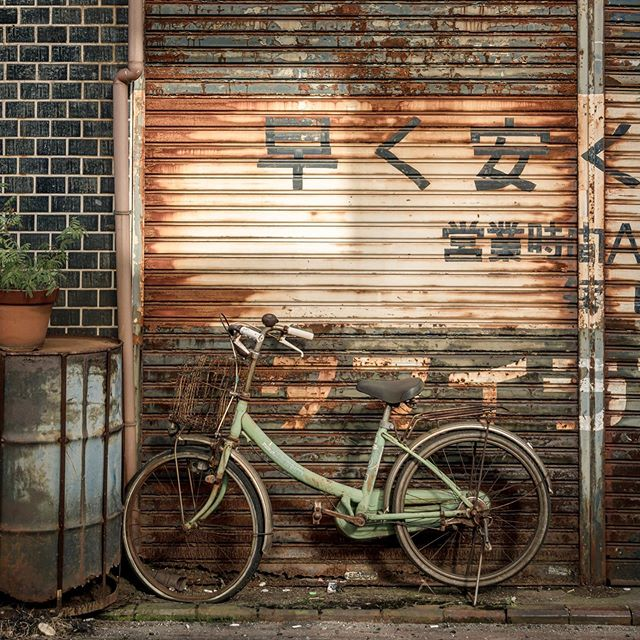barrell: (1, 332, 137, 637)
bicicle: (103, 317, 534, 607)
building: (8, 1, 640, 631)
